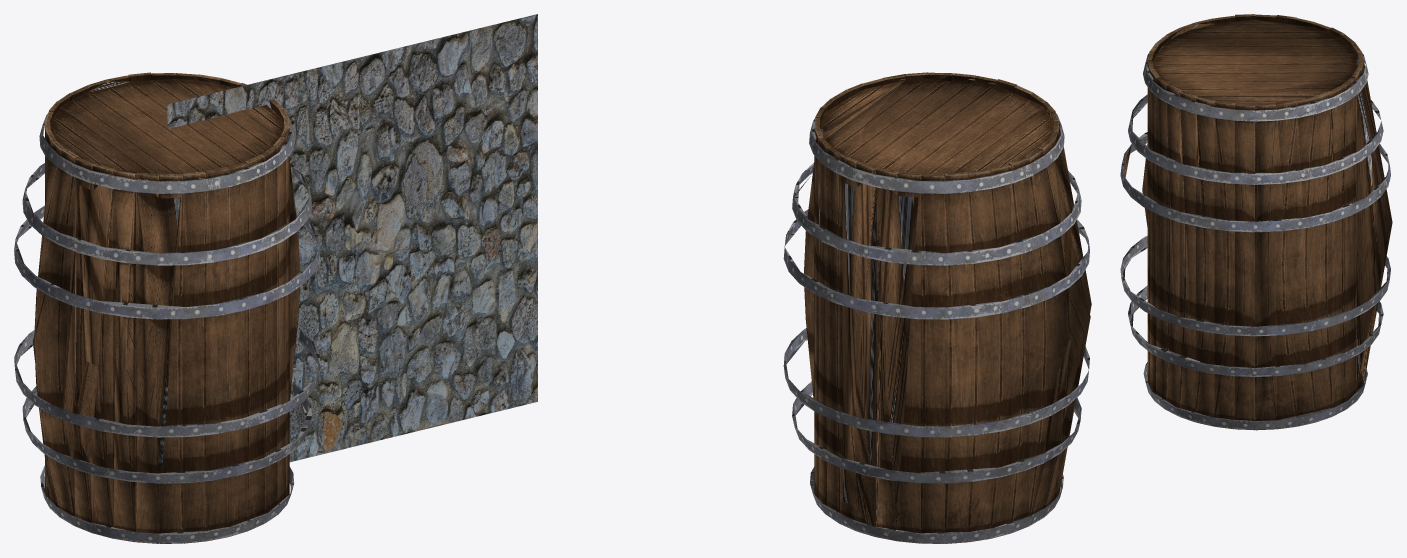
The model's file is winery-kit.glb.
The picture shows the model from 3 angles, left to right: view 1: azimuth 30°, elevation 25°; view 2: azimuth 150°, elevation 25°; view 3: azimuth 270°, elevation 25°; orthographic projection. The views are drawn at different scales.
Parts seen in each view (by area): view 1: tex_stone, barrel, barrel_lo; view 2: barrel, barrel_lo; view 3: barrel, barrel_lo.
Boxes of the visible parts, bbox=[...] form: tex_stone: bbox=[167, 14, 537, 462]; barrel: bbox=[14, 72, 320, 543]; barrel_lo: bbox=[32, 77, 289, 543]; barrel: bbox=[783, 72, 1089, 543]; barrel_lo: bbox=[795, 74, 1091, 541]; barrel: bbox=[1120, 14, 1390, 430]; barrel_lo: bbox=[1124, 22, 1392, 415].
Size of the model in its own units: 1.36 by 1 by 0.7212.
Materials: 10 (6 with a texture image).
